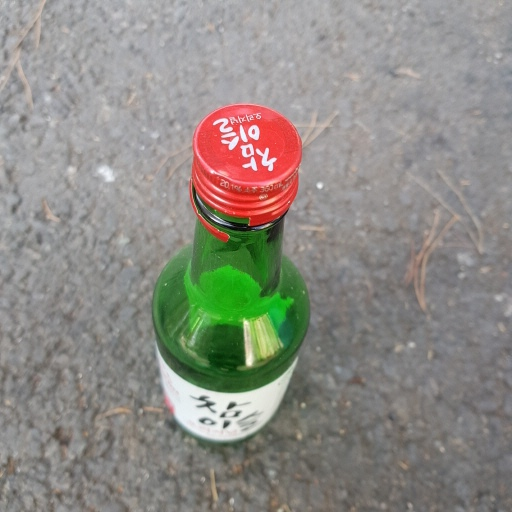Glass_0: (140, 102, 314, 446)
